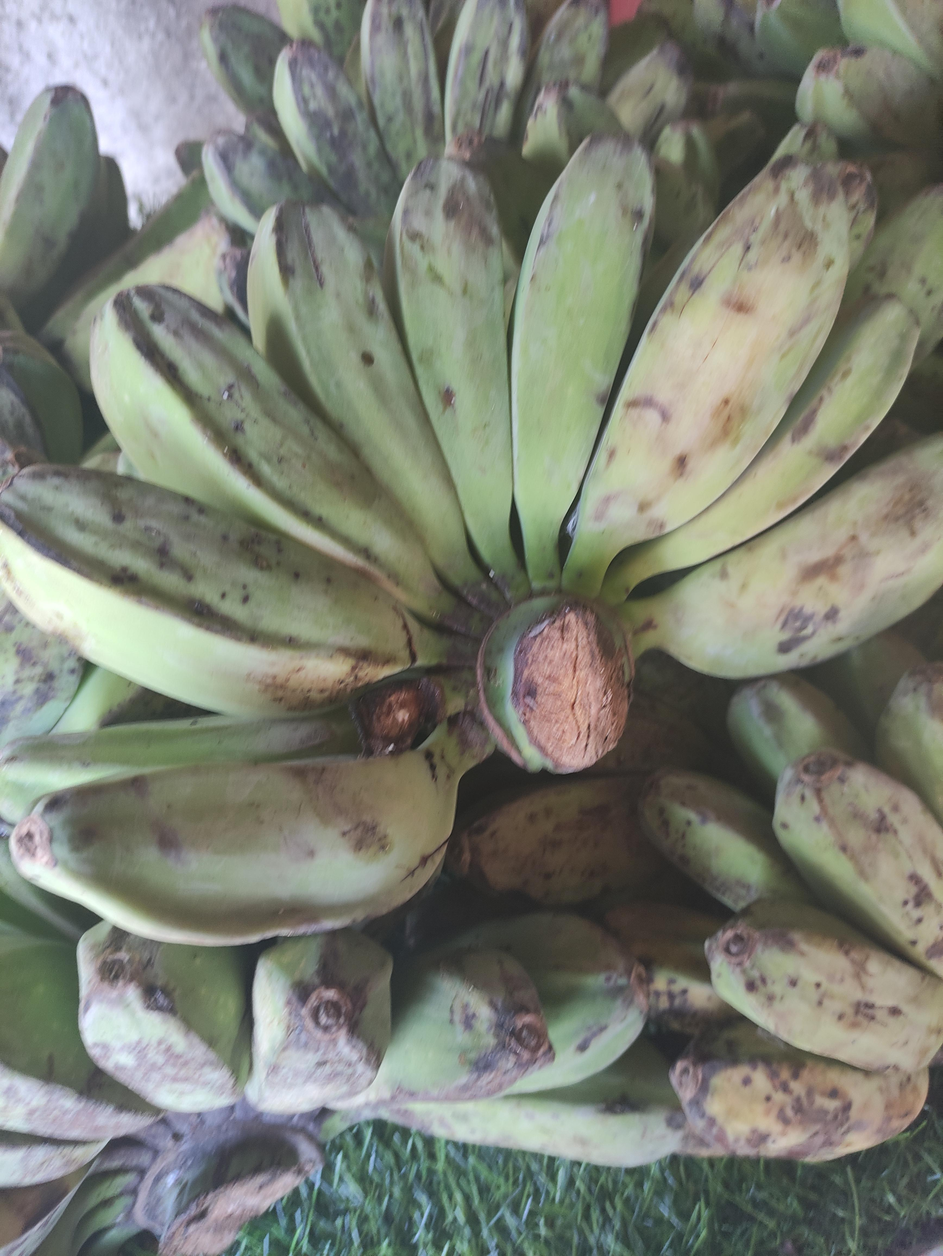underripe: (0, 134, 943, 947), (0, 912, 685, 1256), (605, 633, 943, 1161), (200, 0, 692, 236), (0, 85, 231, 394)
